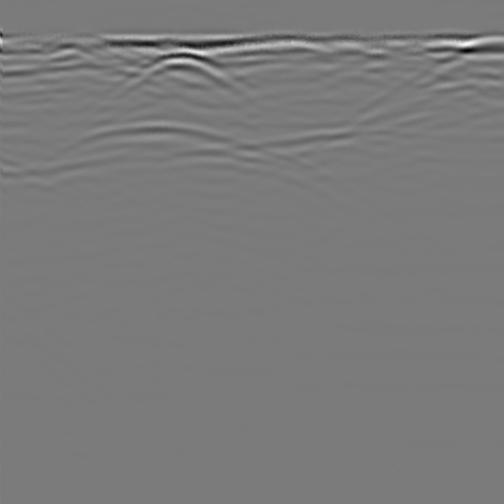hyperbola: (34, 108, 283, 207)
